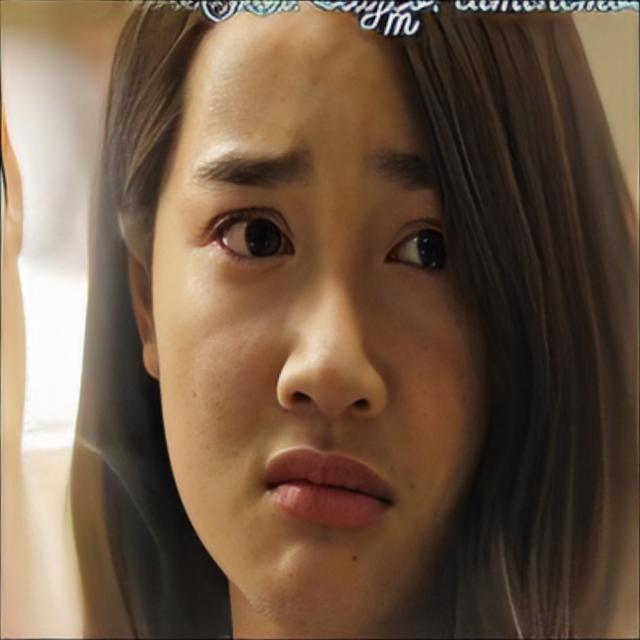disgust: (150, 0, 498, 637)
